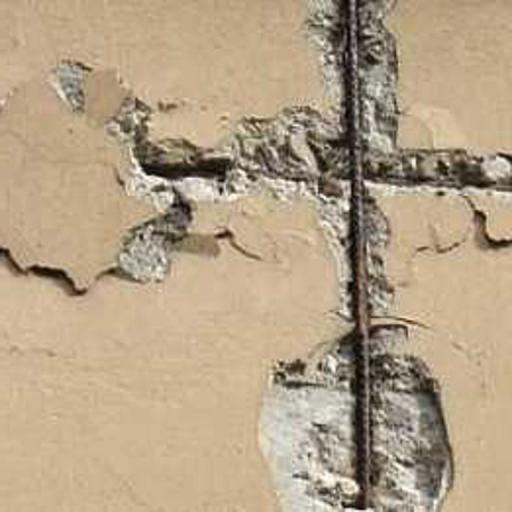spalling: (46, 6, 512, 512)
